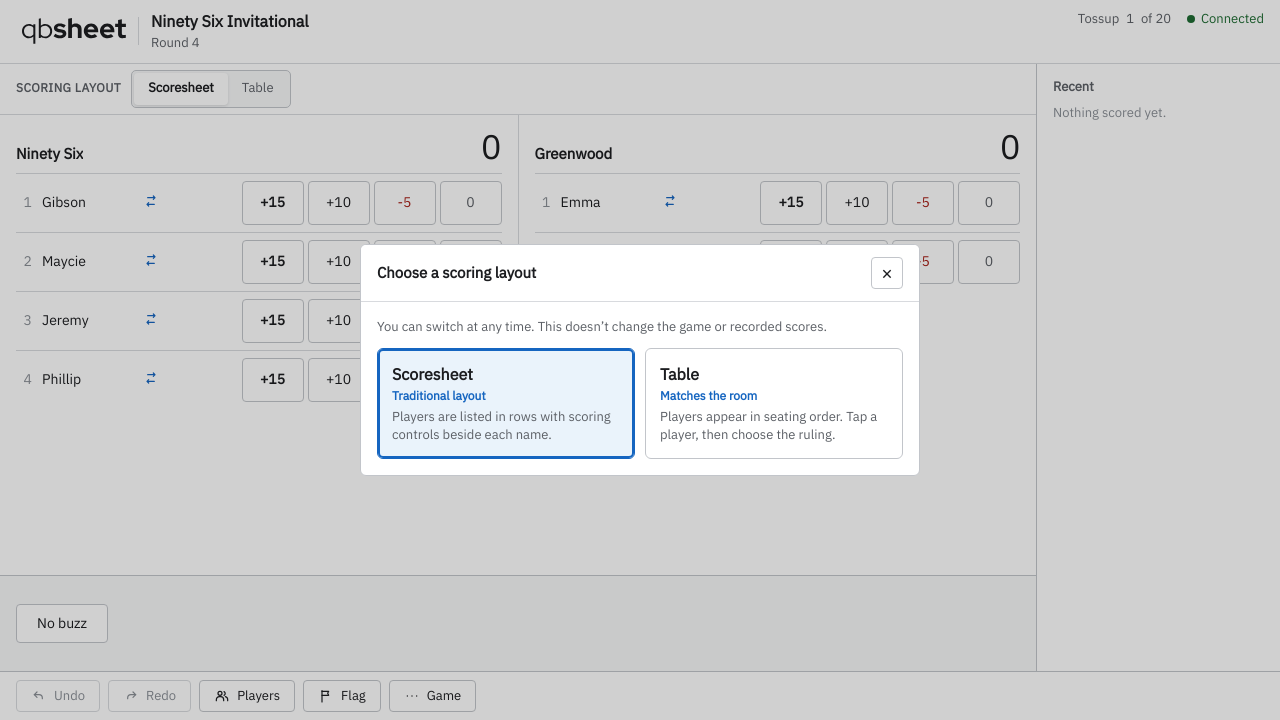
Scenario: the question a new game opens with › choosing Table opens the table, with no second press to confirm it
The width and height of the screenshot is (1280, 720).
Click the radio button labelled "Table": click(774, 404) [645, 348, 903, 459]
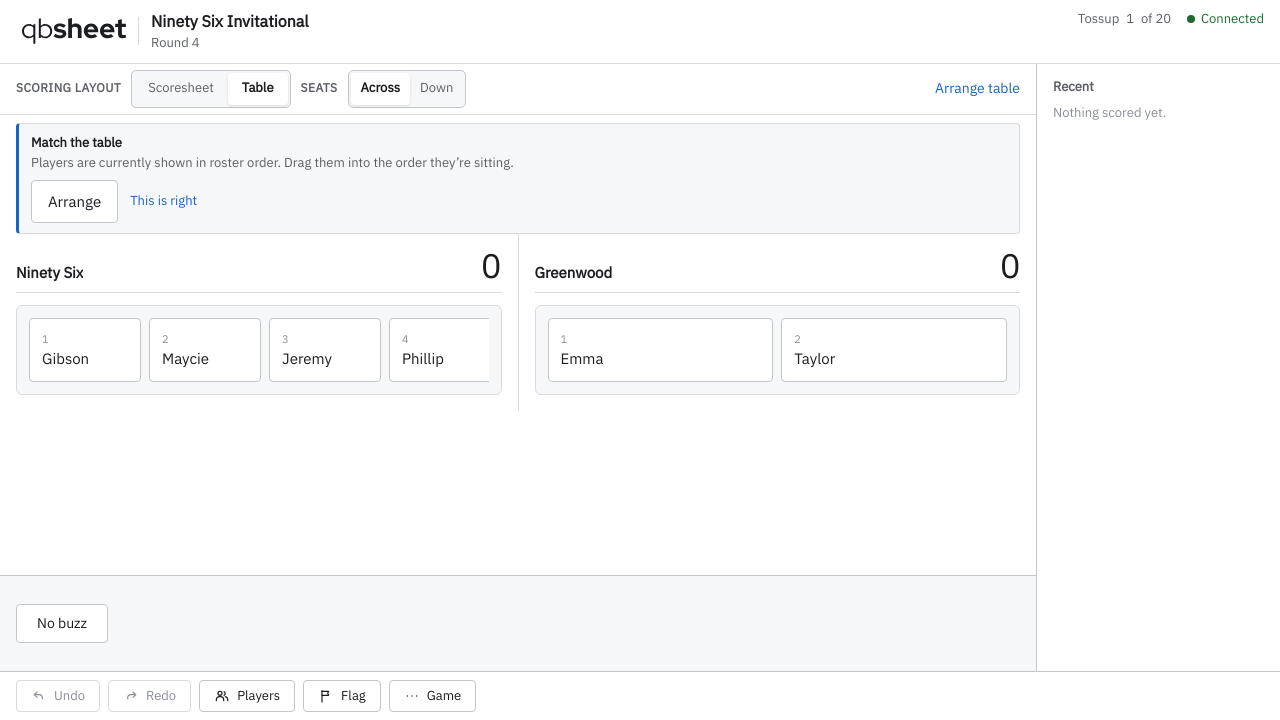
Result: the heading "Choose a scoring layout" is gone
Result: the element that starts with "Match the table" is shown at [16, 123, 1020, 395]
